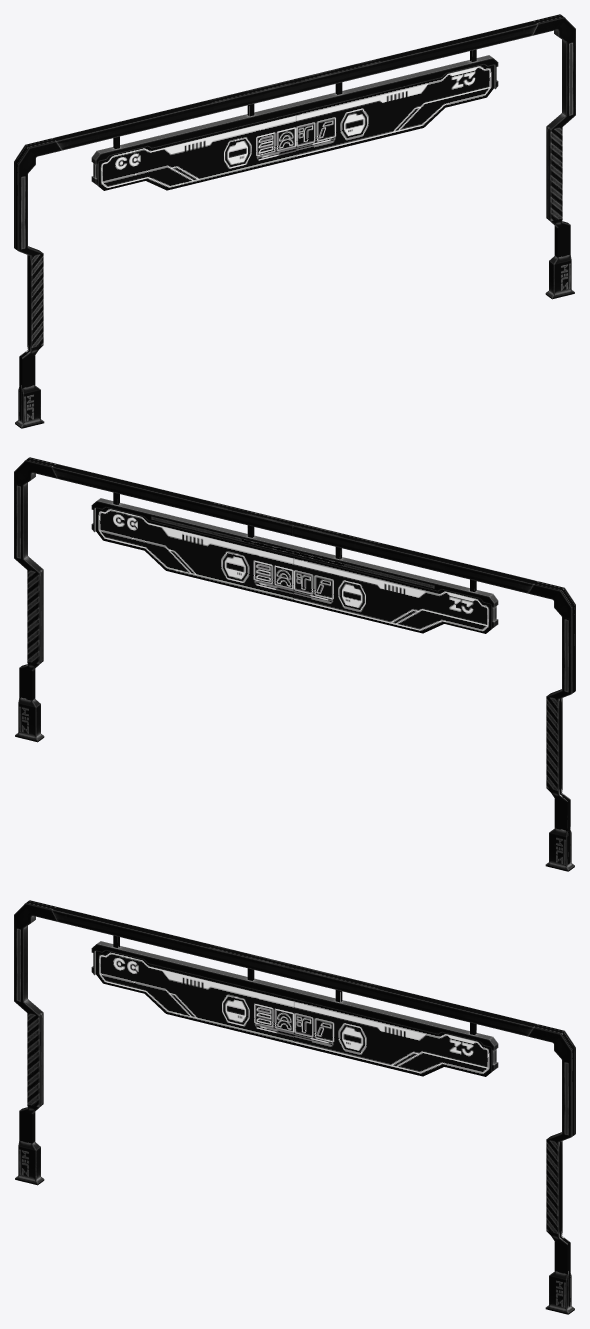
Rendered from propRoadsideArch.glb.
The picture shows the model from 3 angles, top to bottom: view 1: azimuth 30°, elevation 25°; view 2: azimuth 150°, elevation 25°; view 3: azimuth 330°, elevation 25°; orthographic projection.
Visible parts, largest first — view 1: propRoadsideArch, SM_CitySignage_01_Decal.009_M_City_Signage_Decals_Blue.001_0; view 2: propRoadsideArch, SM_CitySignage_01_Decal.009_M_City_Signage_Decals_Blue.001_0; view 3: propRoadsideArch, SM_CitySignage_01_Decal.009_M_City_Signage_Decals_Blue.001_0.
Boxes of the visible parts, x1,y1,x2,y2 form: propRoadsideArch: [14, 14, 575, 428]; SM_CitySignage_01_Decal.009_M_City_Signage_Decals_Blue.001_0: [100, 65, 491, 188]; propRoadsideArch: [14, 457, 575, 871]; SM_CitySignage_01_Decal.009_M_City_Signage_Decals_Blue.001_0: [98, 508, 489, 631]; propRoadsideArch: [14, 900, 575, 1314]; SM_CitySignage_01_Decal.009_M_City_Signage_Decals_Blue.001_0: [98, 951, 489, 1074].
Bounding box in the file's own units: 12.81 × 6.1 × 0.2594.
2 materials, 2 textured.
